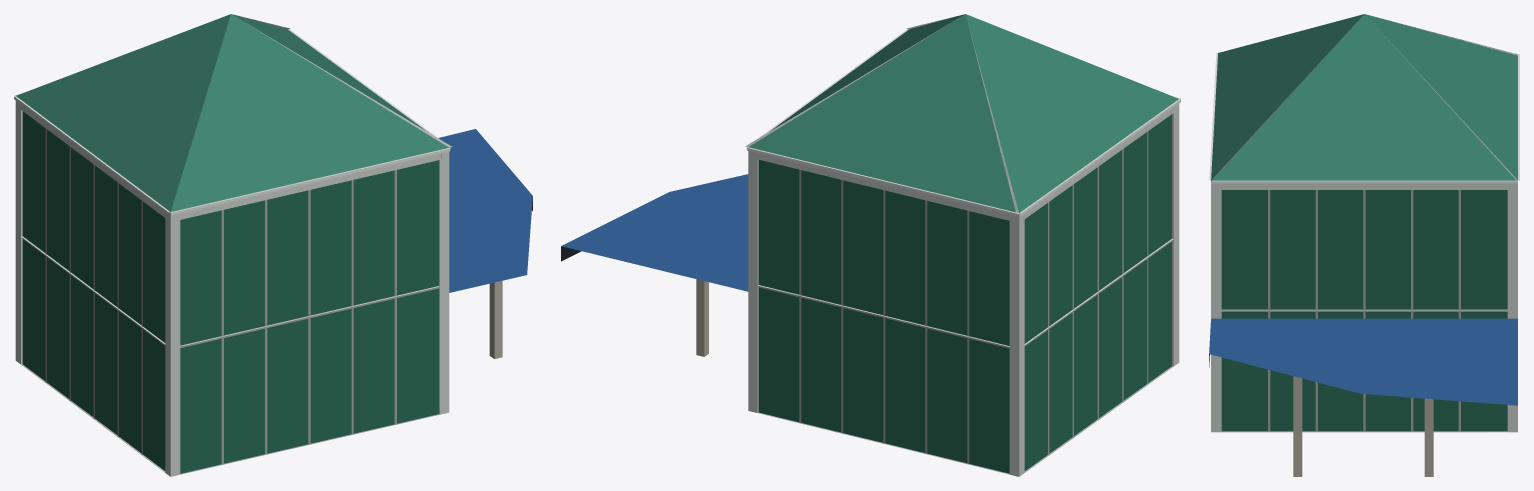
The picture shows the model from 3 angles, left to right: view 1: azimuth 30°, elevation 25°; view 2: azimuth 150°, elevation 25°; view 3: azimuth 270°, elevation 25°; orthographic projection. The views are drawn at different scales.
Visible parts, largest first — view 1: aejimun__glass, aejimun__roofGlass, aejimun__canopyTop, aejimun__wall, aejimun__frame, aejimun__trim, aejimun__parapet, aejimun__column, aejimun__roof; view 2: aejimun__glass, aejimun__roofGlass, aejimun__canopyTop, aejimun__wall, aejimun__frame, aejimun__trim, aejimun__parapet, aejimun__column, aejimun__roof; view 3: aejimun__glass, aejimun__roofGlass, aejimun__canopyTop, aejimun__wall, aejimun__frame, aejimun__trim, aejimun__column, aejimun__parapet, aejimun__roof.
Boxes of the visible parts, x1=… form: aejimun__glass: x1=22, y1=111, x2=438, y2=473; aejimun__roofGlass: x1=16, y1=14, x2=448, y2=211; aejimun__canopyTop: x1=438, y1=129, x2=532, y2=292; aejimun__wall: x1=15, y1=105, x2=449, y2=476; aejimun__frame: x1=22, y1=14, x2=451, y2=464; aejimun__trim: x1=14, y1=29, x2=450, y2=215; aejimun__parapet: x1=15, y1=100, x2=449, y2=220; aejimun__column: x1=489, y1=280, x2=502, y2=359; aejimun__roof: x1=22, y1=364, x2=439, y2=474; aejimun__glass: x1=758, y1=114, x2=1171, y2=473; aejimun__roofGlass: x1=748, y1=14, x2=1178, y2=212; aejimun__canopyTop: x1=561, y1=174, x2=748, y2=291; aejimun__wall: x1=748, y1=108, x2=1179, y2=476; aejimun__frame: x1=745, y1=15, x2=1172, y2=463; aejimun__trim: x1=746, y1=29, x2=1180, y2=216; aejimun__parapet: x1=748, y1=103, x2=1179, y2=221; aejimun__column: x1=696, y1=279, x2=708, y2=356; aejimun__roof: x1=758, y1=366, x2=1173, y2=474; aejimun__glass: x1=1221, y1=190, x2=1507, y2=431; aejimun__roofGlass: x1=1211, y1=14, x2=1517, y2=180; aejimun__canopyTop: x1=1209, y1=318, x2=1517, y2=405; aejimun__wall: x1=1211, y1=188, x2=1517, y2=432; aejimun__frame: x1=1211, y1=17, x2=1517, y2=431; aejimun__trim: x1=1209, y1=52, x2=1519, y2=183; aejimun__column: x1=1293, y1=376, x2=1433, y2=476; aejimun__parapet: x1=1211, y1=184, x2=1517, y2=188; aejimun__roof: x1=1221, y1=431, x2=1507, y2=432.
Bounding box in the file's own units: 17.08 × 13.1 × 10.41.
